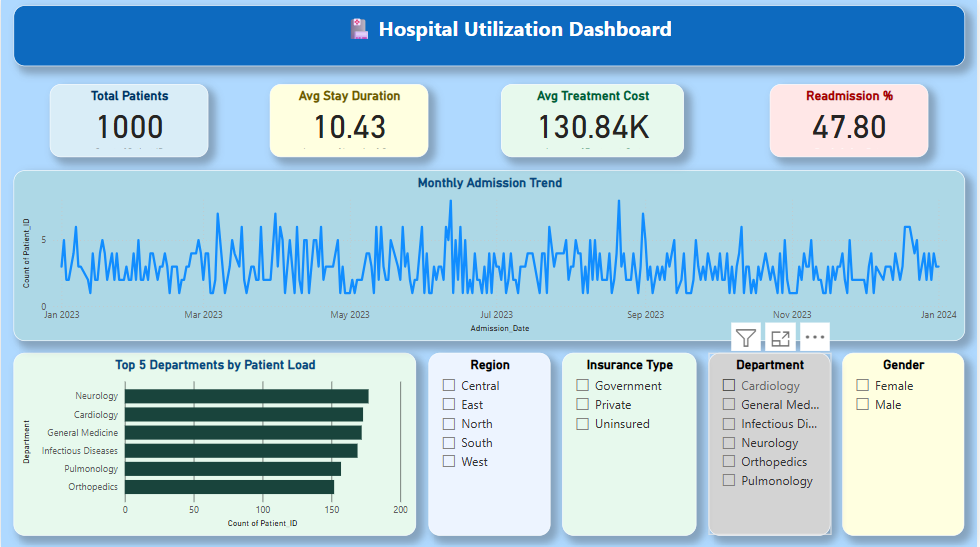

Layout of this report page (visuals, bound fields, positions):
{"tool":"powerbi","page":{"name":"Page 1","canvas":[1280,720],"ordinal":0},"visuals":[{"type":"textbox","box":[16,8,1248,80],"z":0},{"type":"card","title":"Total Patients ","fields":{"Values":["CountNonNull(Sheet1.Patient_ID)"]},"box":[64,112,208,96],"z":1000},{"type":"card","title":"Readmission %","fields":{"Values":["Sheet1.Readmission_Rate"]},"box":[1008,112,208,96],"z":2000},{"type":"card","title":"Avg Stay Duration","fields":{"Values":["Avg(Sheet1.Length_of_Stay)"]},"box":[352,112,208,96],"z":3000},{"type":"clusteredBarChart","title":"Top 5 Departments by Patient Load","fields":{"Category":["Sheet1.Department"],"Y":["CountNonNull(Sheet1.Patient_ID)"]},"box":[16,464,528,240],"z":4000},{"type":"lineChart","title":"Monthly Admission Trend","fields":{"Category":["Sheet1.Admission_Date"],"Y":["CountNonNull(Sheet1.Patient_ID)"]},"box":[16,224,1248,224],"z":5000},{"type":"slicer","title":"Gender","fields":{"Values":["Sheet1.Gender"]},"box":[1104,464,160,240],"z":7000},{"type":"slicer","title":"Region","fields":{"Values":["Sheet1.Region"]},"box":[560,464,160,240],"z":8000},{"type":"slicer","title":"Department","fields":{"Values":["Sheet1.Department"]},"box":[928,464,160,240],"z":9000},{"type":"slicer","title":"Insurance Type","fields":{"Values":["Sheet1.Insurance_Type"]},"box":[736,464,176,240],"z":10000},{"type":"card","title":"Avg Treatment Cost ","fields":{"Values":["Avg(Sheet1.Treatment_Cost)"]},"box":[656,112,240,96],"z":11000}]}

Visuals, with their boxes in screenshot pixels (x1, y1, x2, y2), scaled from the page's 1280x720 canvas onto the 980x547 screenshot:
textbox: 12/6/968/67
"Total Patients " card: 49/85/208/158
"Readmission %" card: 772/85/931/158
"Avg Stay Duration" card: 270/85/429/158
"Top 5 Departments by Patient Load" clusteredBarChart: 12/353/416/535
"Monthly Admission Trend" lineChart: 12/170/968/340
"Gender" slicer: 845/353/968/535
"Region" slicer: 429/353/551/535
"Department" slicer: 710/353/833/535
"Insurance Type" slicer: 564/353/698/535
"Avg Treatment Cost " card: 502/85/686/158
